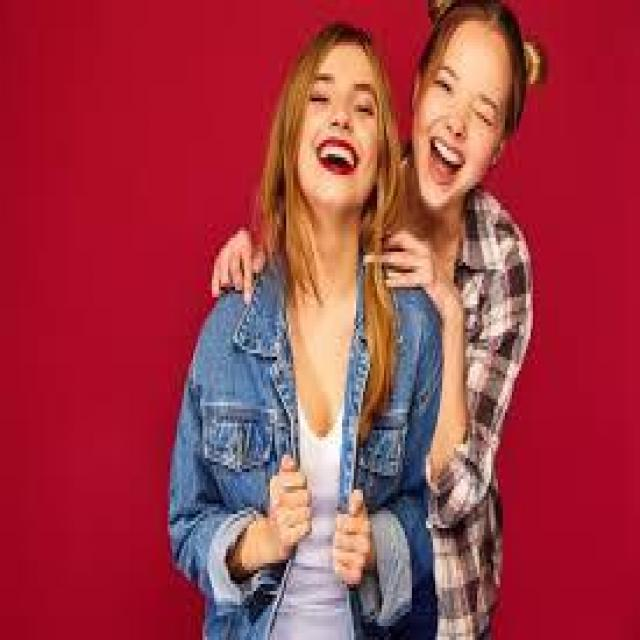person: (279, 7, 605, 636), (174, 21, 440, 636)
